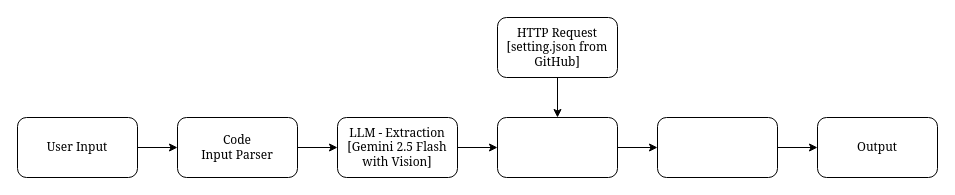
The diagram is 955 pixels wide and 195 high, and some of its shapes have lost their labels. The shapes that lost their labels are listed below. From the top down, each one's centre as x and y in pixels, then its label:
the point at 557,147: LLM - Understaning [gpt-3.5-turbo]
the point at 717,147: Code Combine
